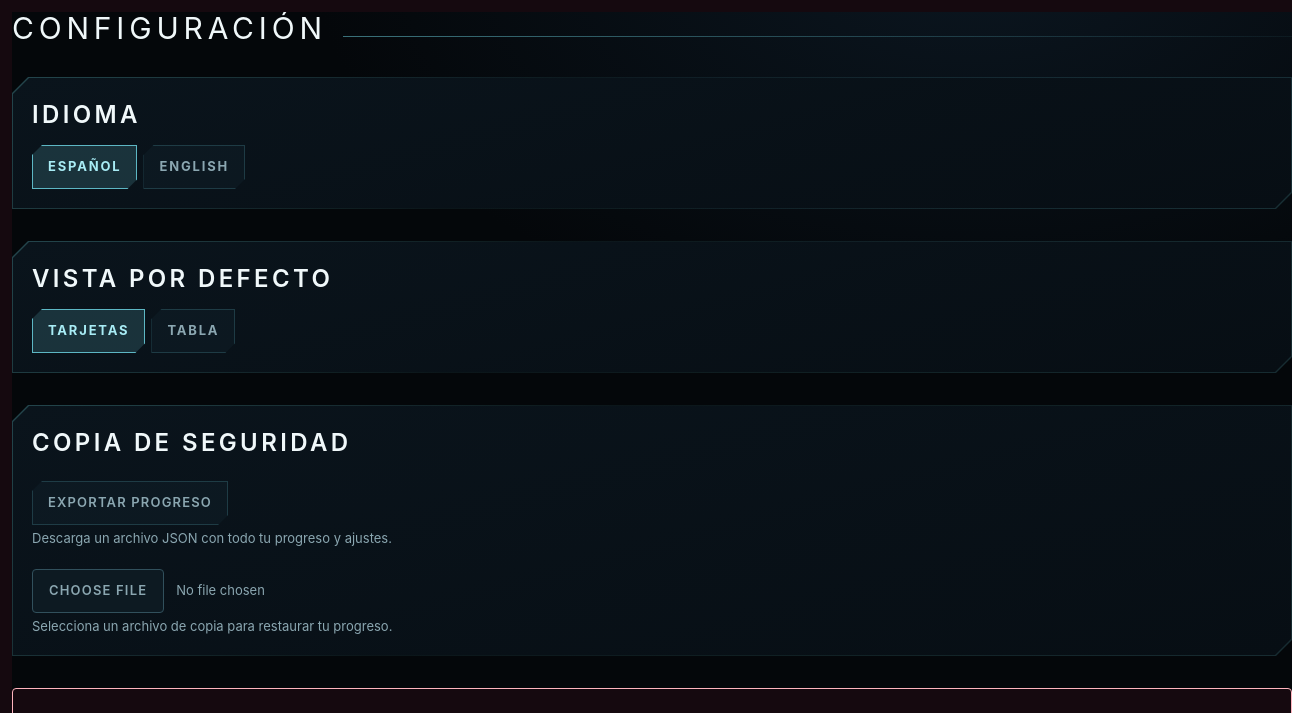
it: SettingsView — cambio de idioma al vuelo › cambiar a English re-renderiza los literales de la UI
Expected: the heading "Configuración" is shown, [12,12,327,45]
Click the radio button labelled "English" at (194, 167), box [144,145,245,189]
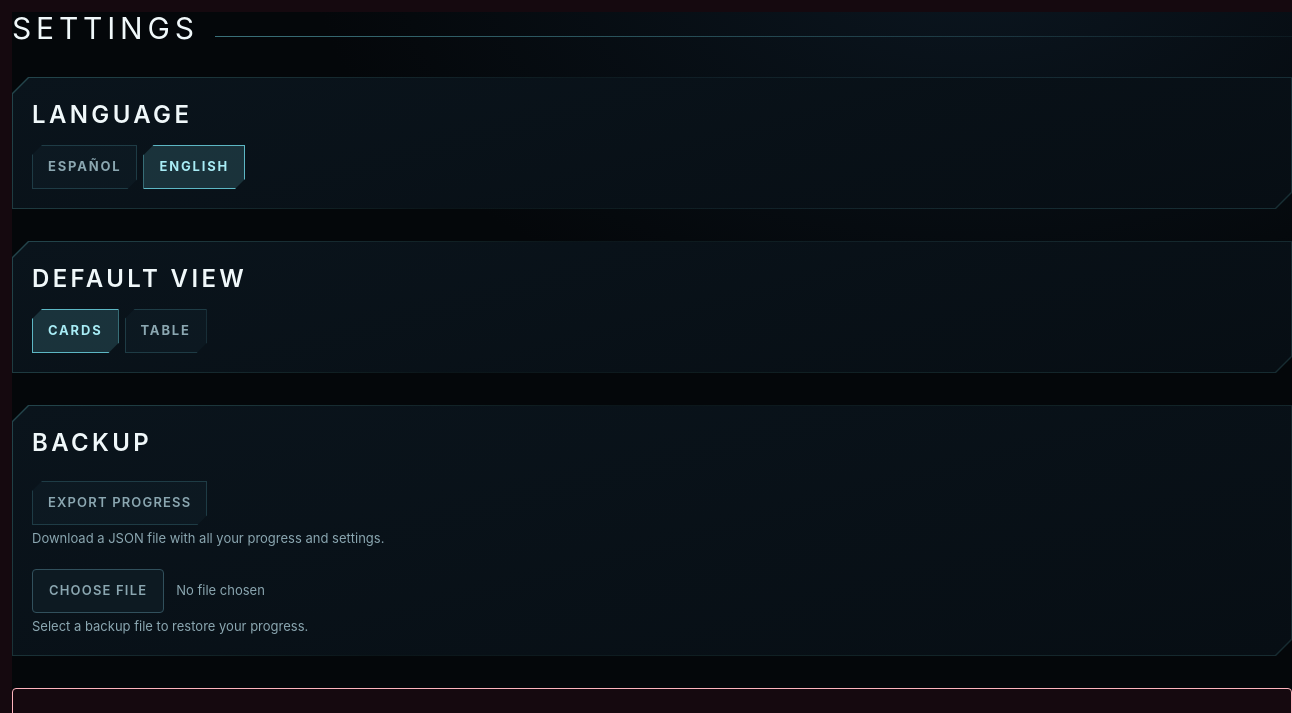
Expected: the heading "Settings" is shown, [12,12,199,45]
Expected: the heading "Configuración" is gone
